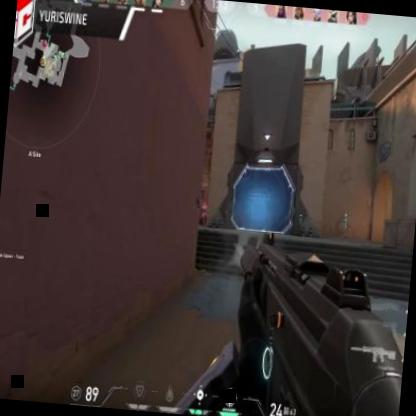enemy: (200, 198, 209, 222)
enemy_head: (204, 200, 208, 208)
